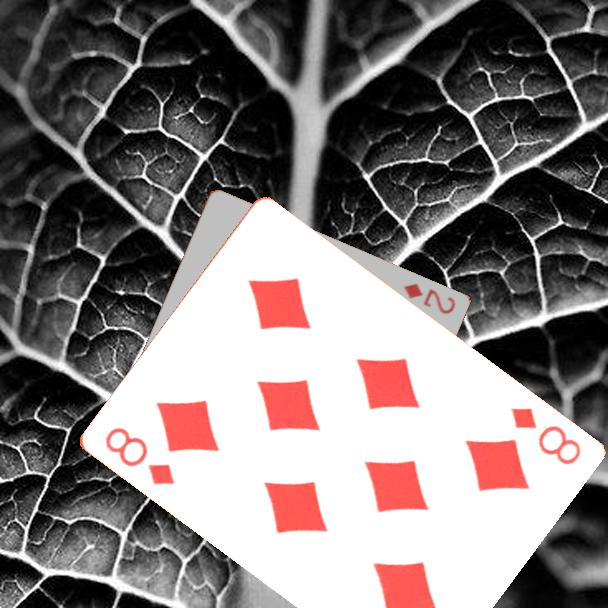d02: (400, 280, 458, 317)
d08: (100, 423, 177, 489), (506, 404, 584, 468)
